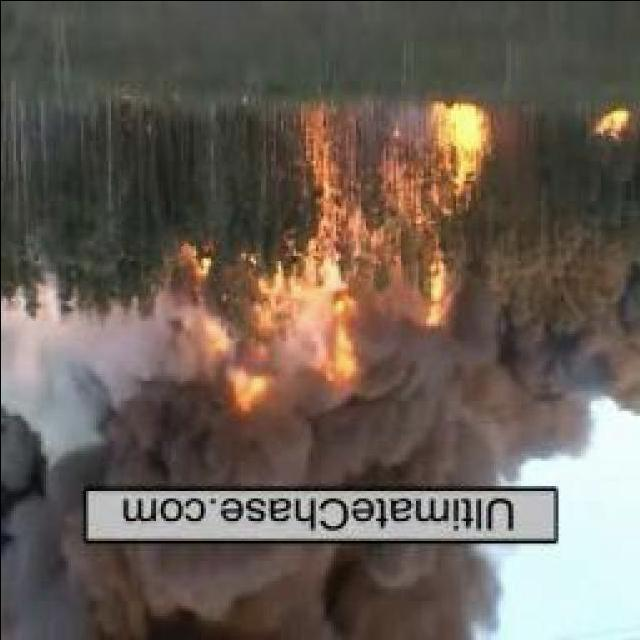Fire: (205, 96, 372, 412), (426, 98, 492, 232), (597, 105, 625, 140)
